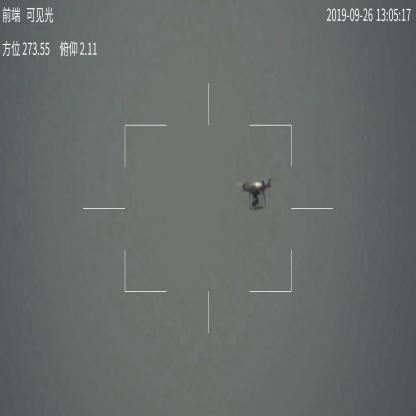uav: (240, 175, 278, 212)
